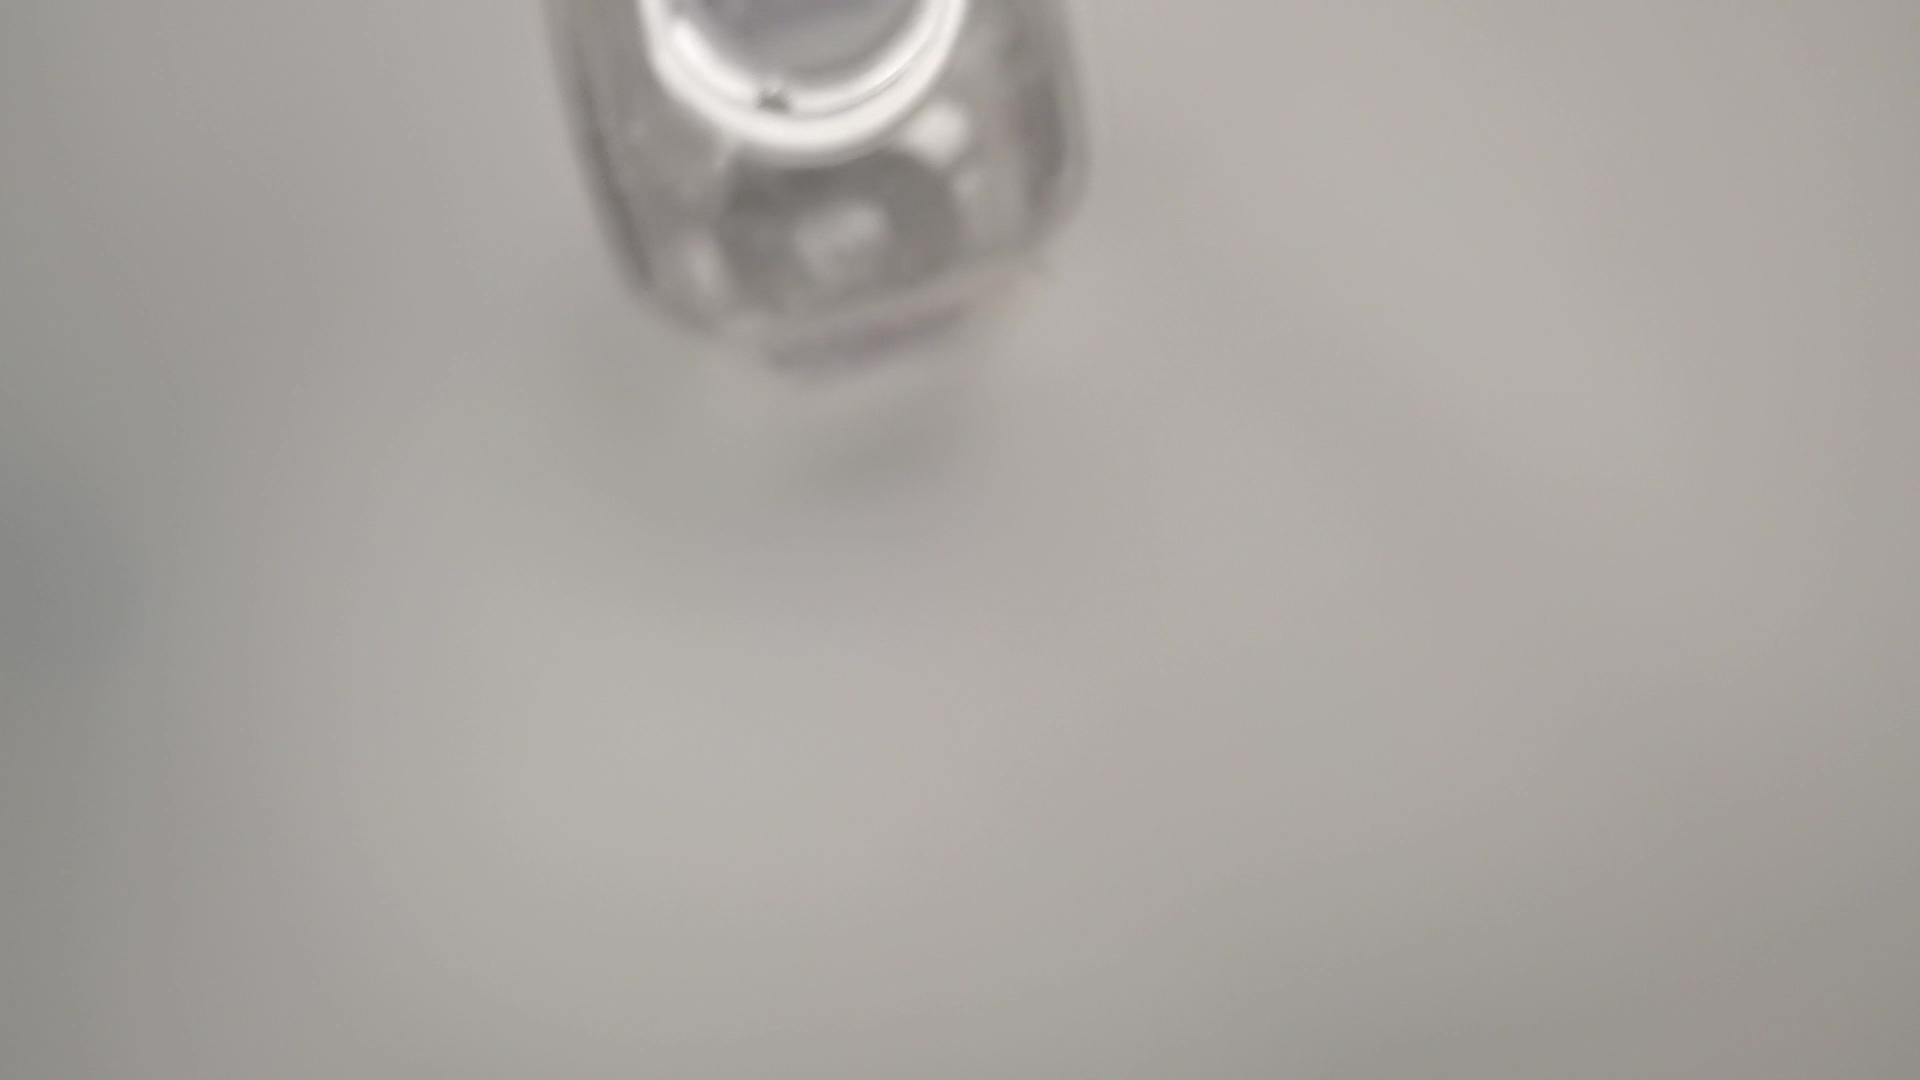bottle: (522, 1, 1106, 386)
